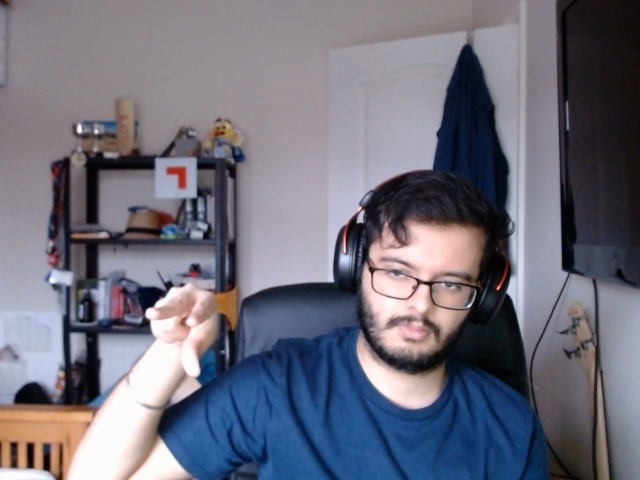No: (139, 277, 234, 380)
